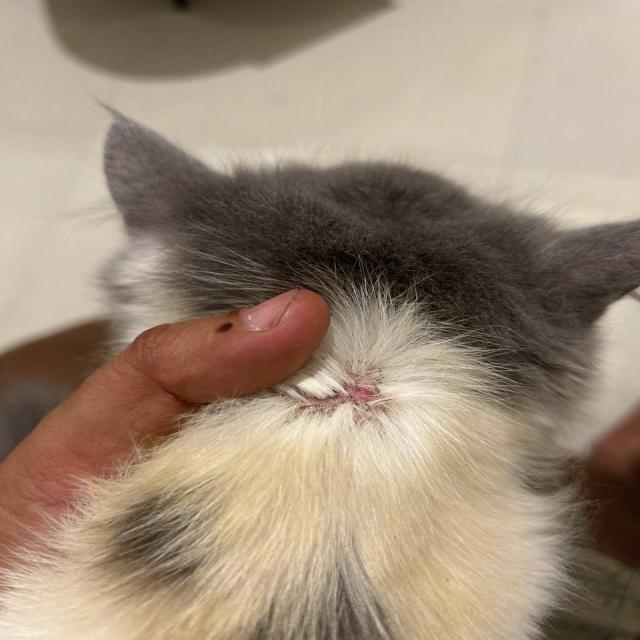hac lao: (275, 358, 418, 451)
